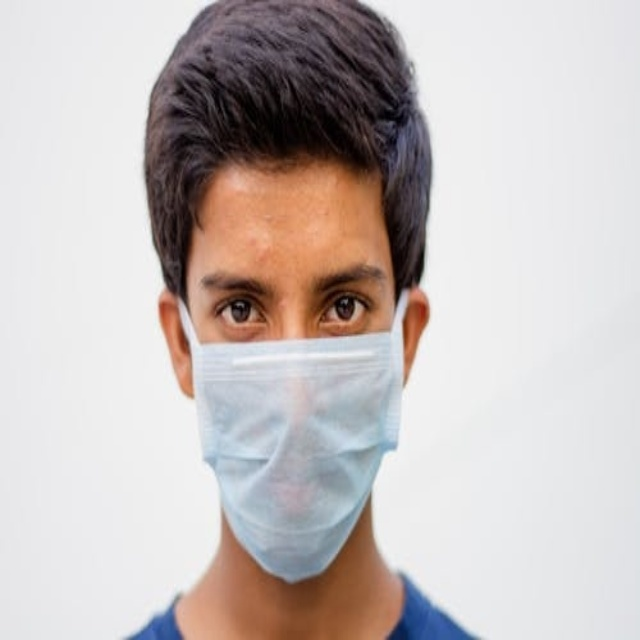Mascara: (180, 289, 407, 583)
Sin_gafas: (195, 246, 380, 334)
